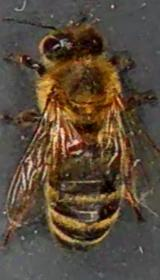varroa_mite: (62, 132, 91, 161)
